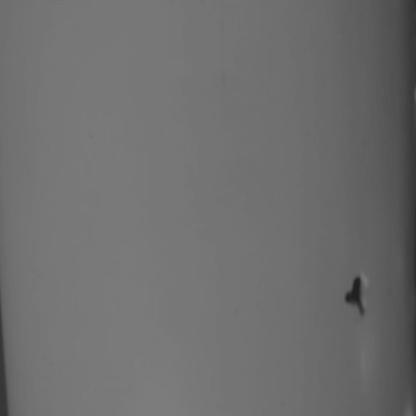kongdong: (338, 265, 379, 323)
